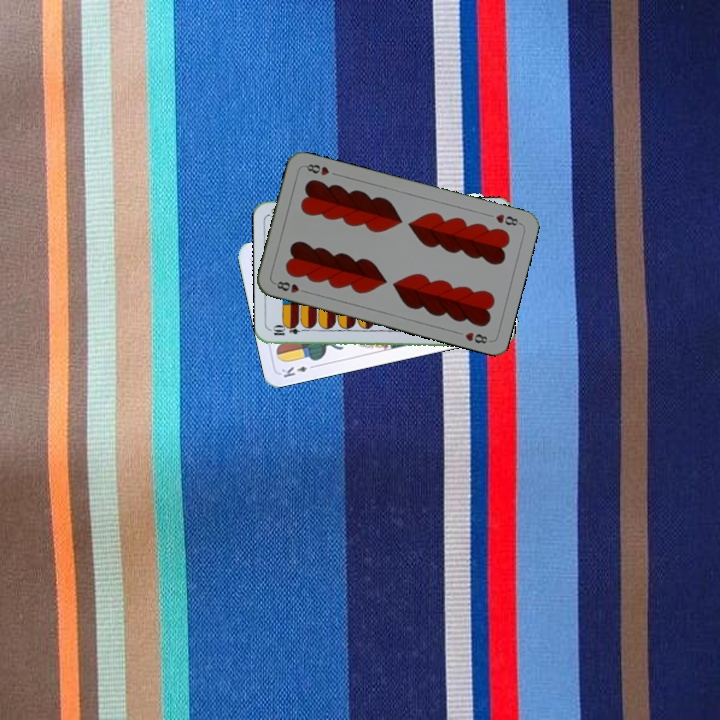E10: (269, 324, 310, 338)
EK: (277, 361, 318, 380)
H8: (270, 277, 310, 296), (492, 210, 523, 229)
